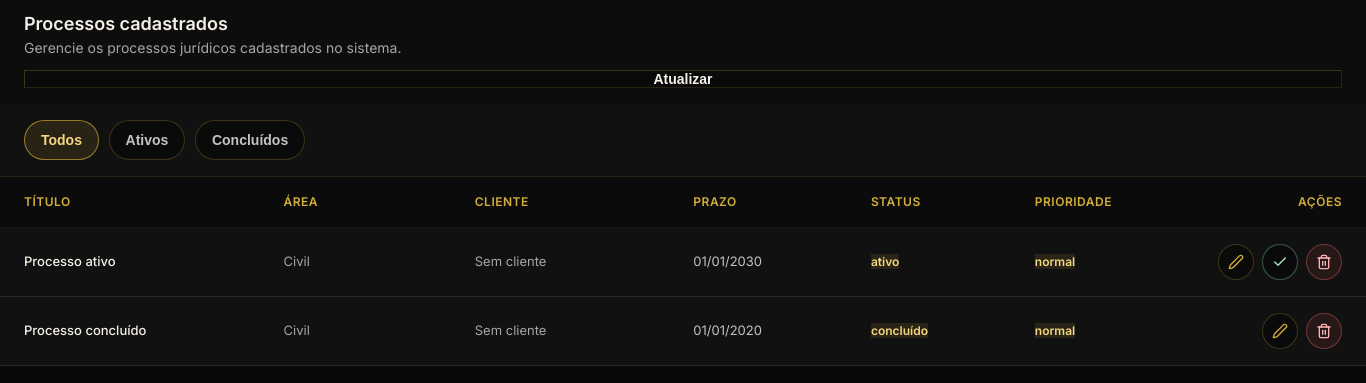
Test: LexFlow frontend behaviors › filters processes by all, active and completed status
The image size is (1366, 383).
Click the button "Ativos" at (147, 140), box [109, 120, 185, 160]
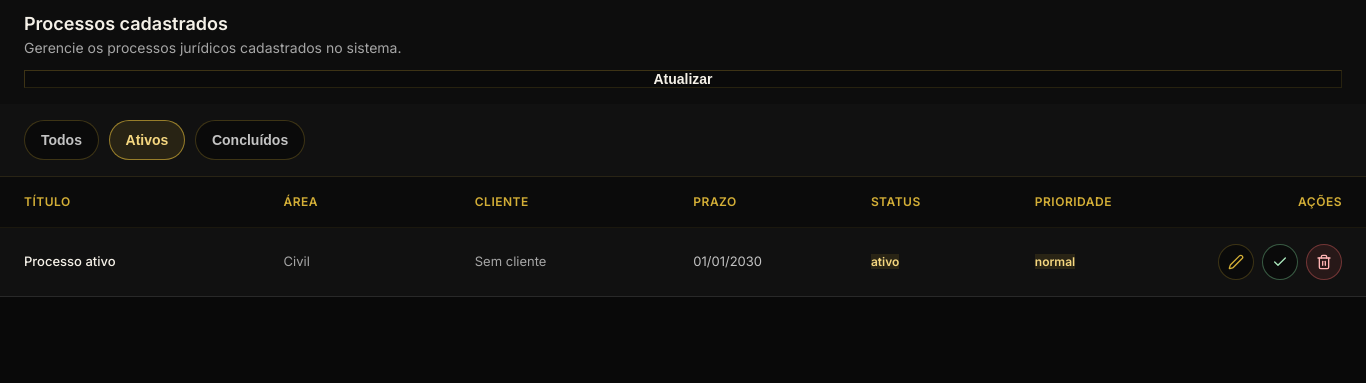
Check: the text "Processo ativo" is shown, box [0, 228, 260, 296]
Check: the text "Processo concluído" is gone
Click the button "Concluídos" at (250, 140), box [195, 120, 305, 160]
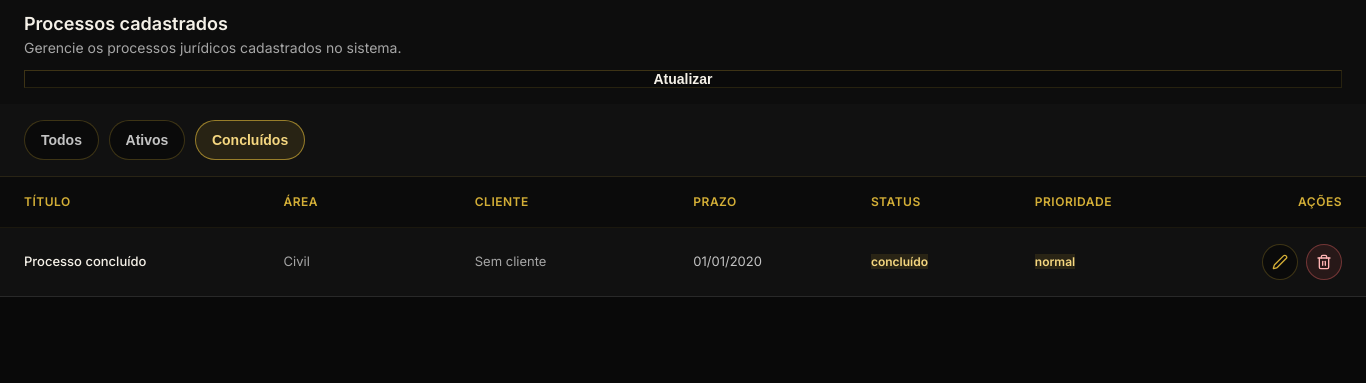
Check: the text "Processo concluído" is shown, box [0, 228, 260, 296]
Check: the text "Processo ativo" is gone
Click the button "Todos" at (62, 140), box [24, 120, 99, 160]
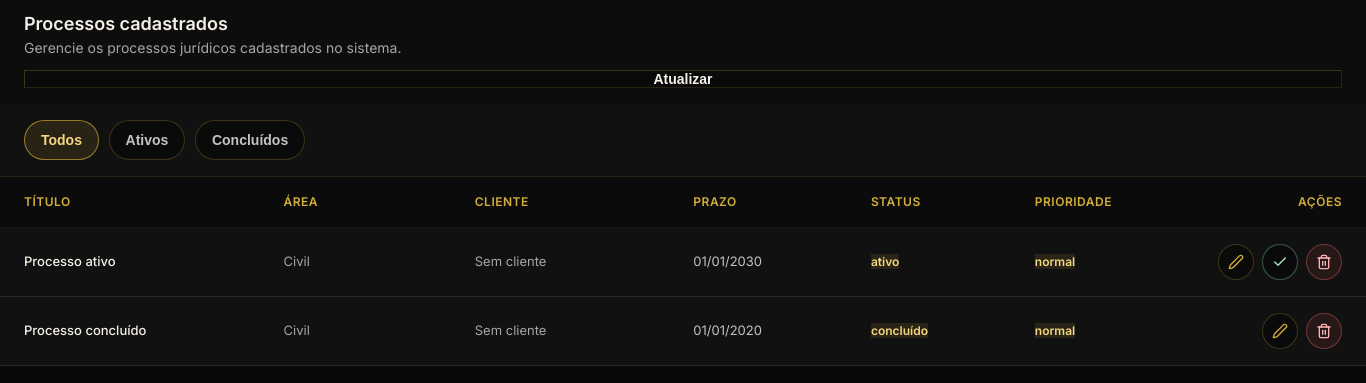
Check: the text "Processo concluído" is shown, box [0, 296, 260, 366]
Check: the text "Processo ativo" is shown, box [0, 228, 260, 296]
